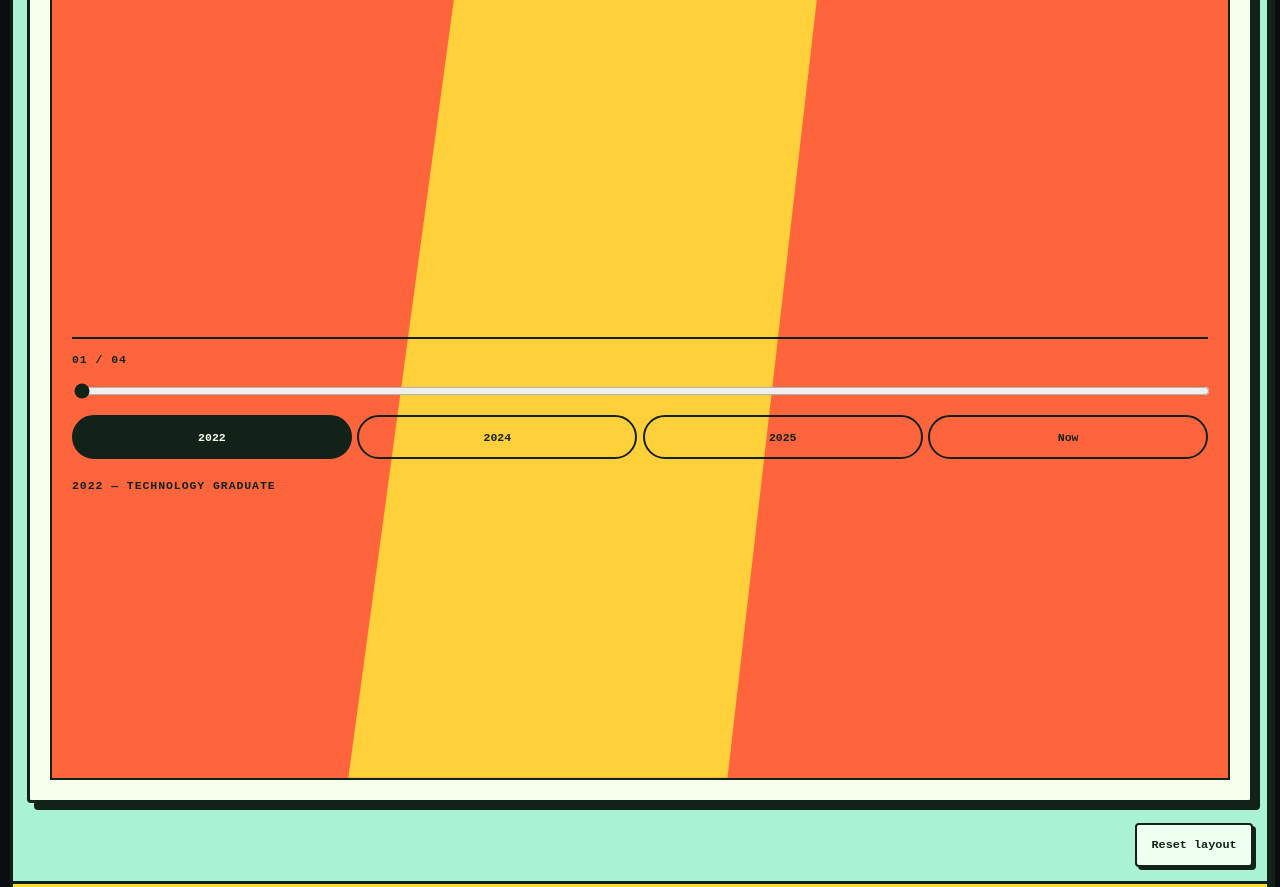
Scenario: Career.app RED contract › atomically replaces all visible and accessible stage content during rapid direct selection
This screenshot has width=1280, height=887.
(page scrolled)
What coordinates should you click on to do the following:
click the button "Now"
I would click on:
 (1068, 437)
Its box is [928,415,1208,459].
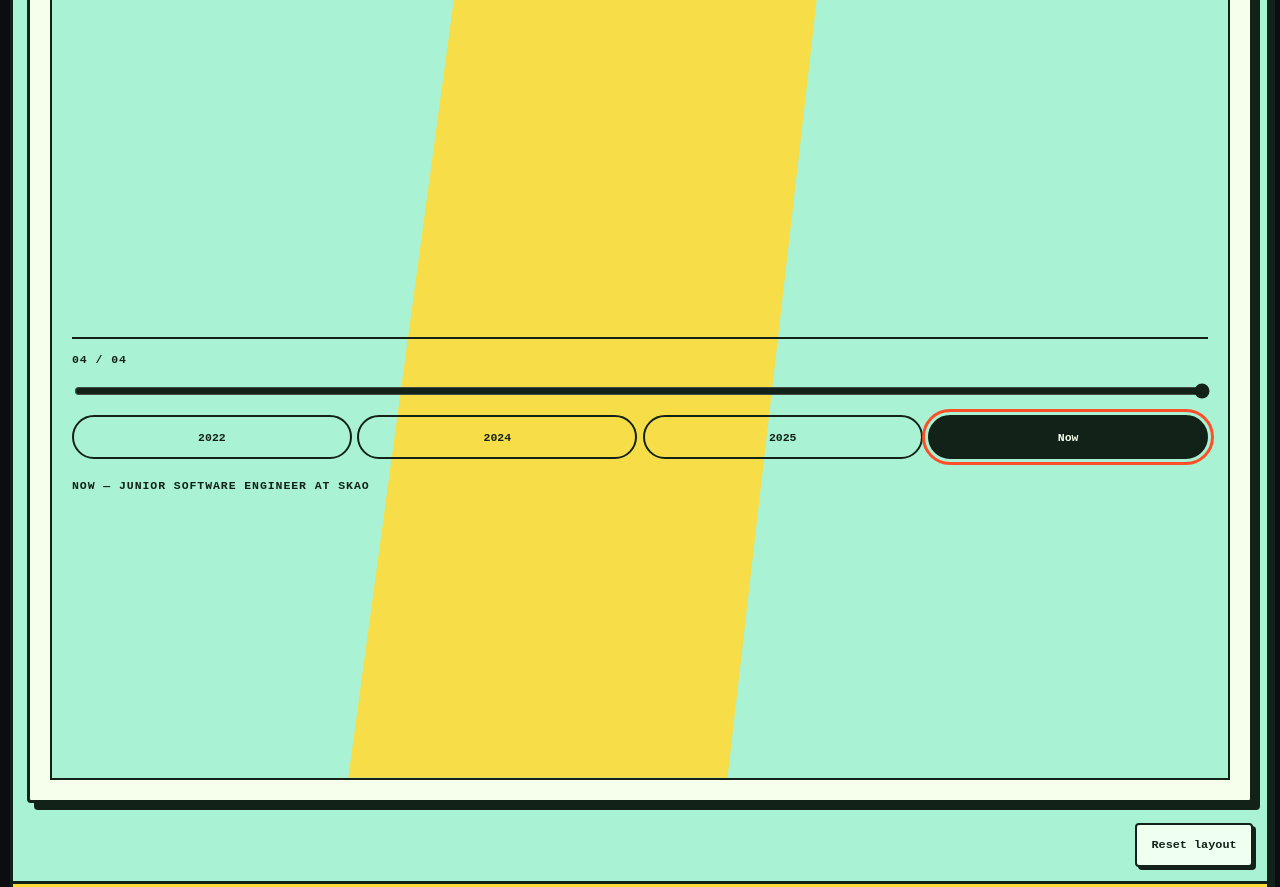
What coordinates should you click on to do the following:
click the button "2024"
I would click on:
 (497, 437)
Its box is [357,415,637,459].
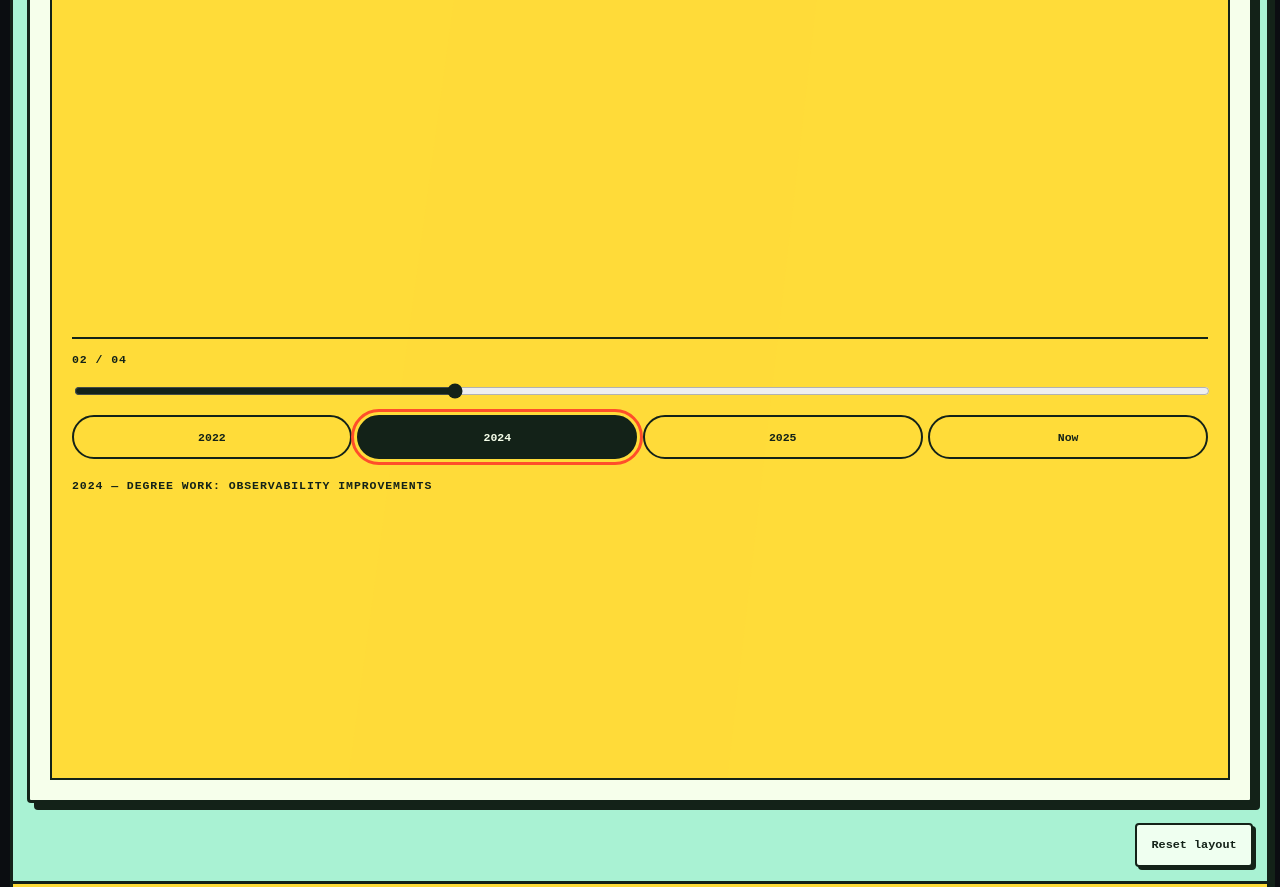
Now the message named "Current career stage" reads "2024 — Degree Work: Observability Improvements", box [72,479,432,492]
